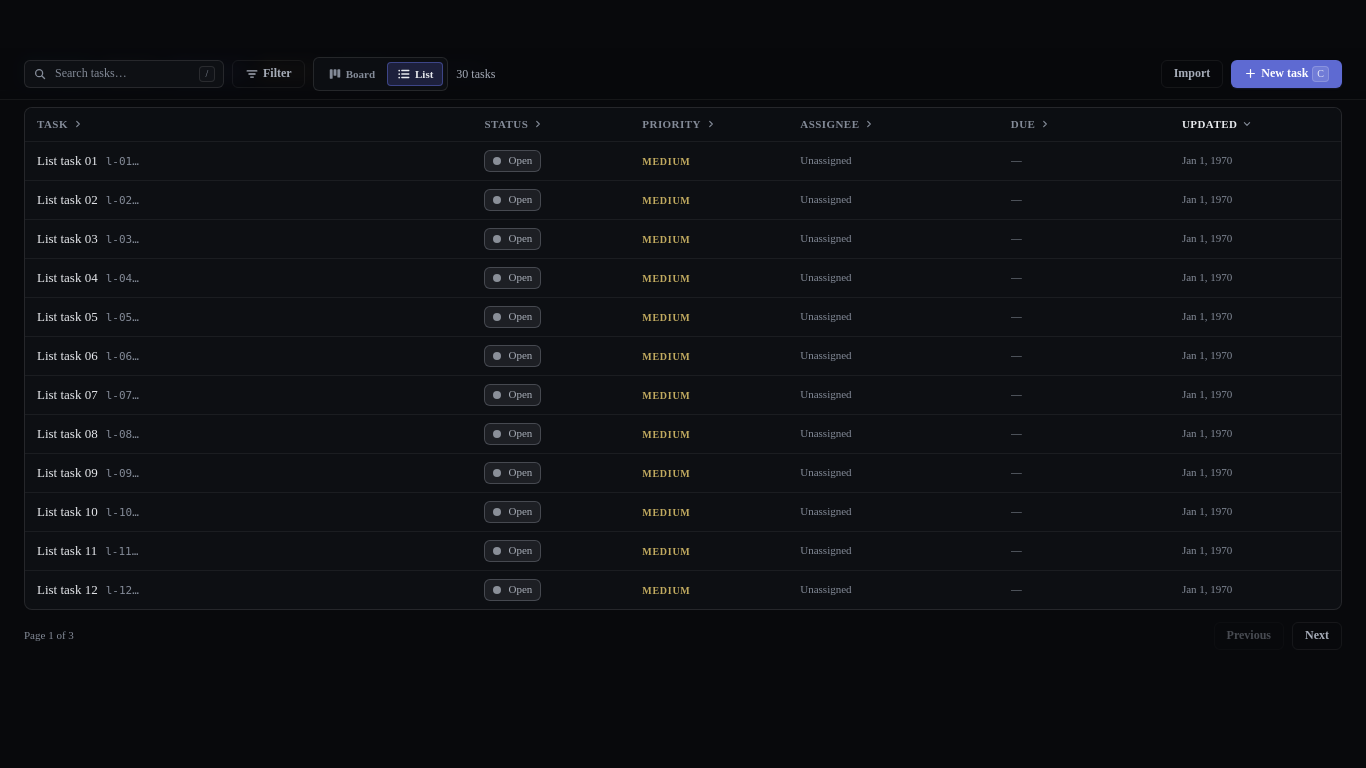
board route list view paging › goes back to page 1 when the search changes and the list still spans pages
This screenshot has width=1366, height=768.
(page scrolled)
Expected: the text "Page 1 of 3" is shown, [24, 627, 74, 644]
Click the button "Next" at (1317, 636), box [1292, 622, 1342, 650]
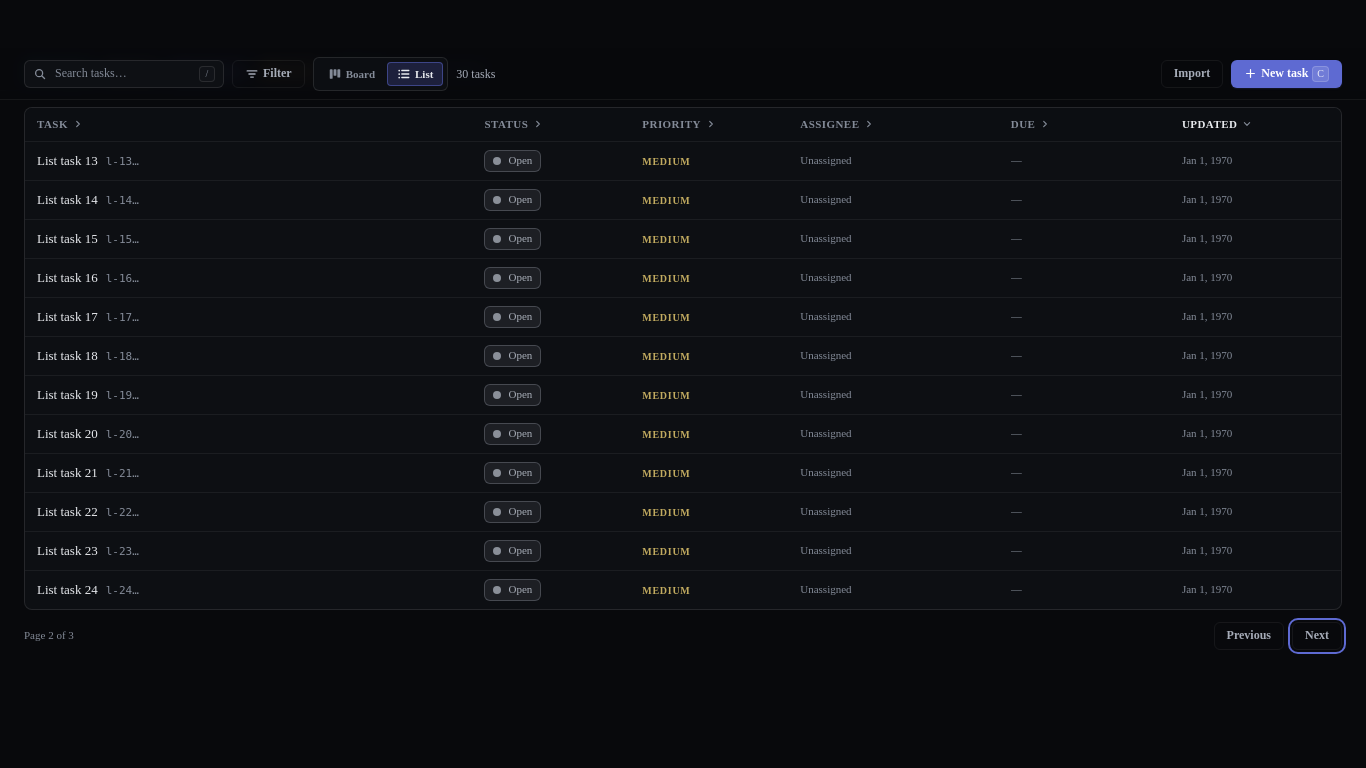
Expected: the text "Page 2 of 3" is shown, [24, 627, 74, 644]
Type "List task" into the search field labelled "Search tasks" at (123, 74), box [55, 66, 191, 81]
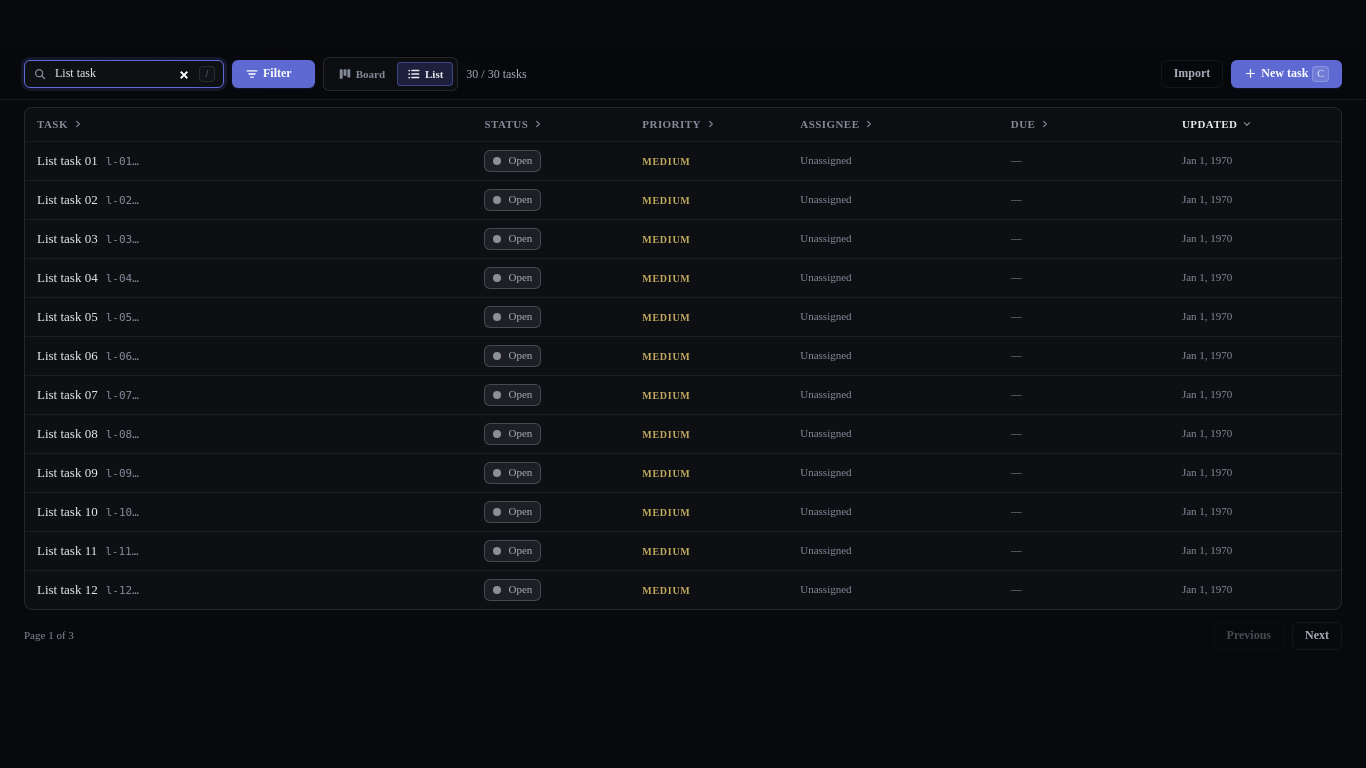
Expected: the text "Page 1 of 3" is shown, [24, 627, 74, 644]
